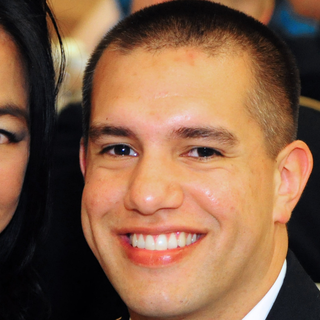eye: (179, 140, 228, 165), (97, 139, 142, 164)
